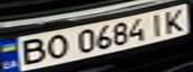0: (75, 26, 96, 54)
4: (127, 16, 151, 42)
6: (93, 22, 115, 51)
8: (112, 20, 133, 46)
B: (12, 35, 51, 66)
I: (145, 10, 172, 37)
K: (160, 6, 193, 34)
O: (39, 33, 72, 61)
